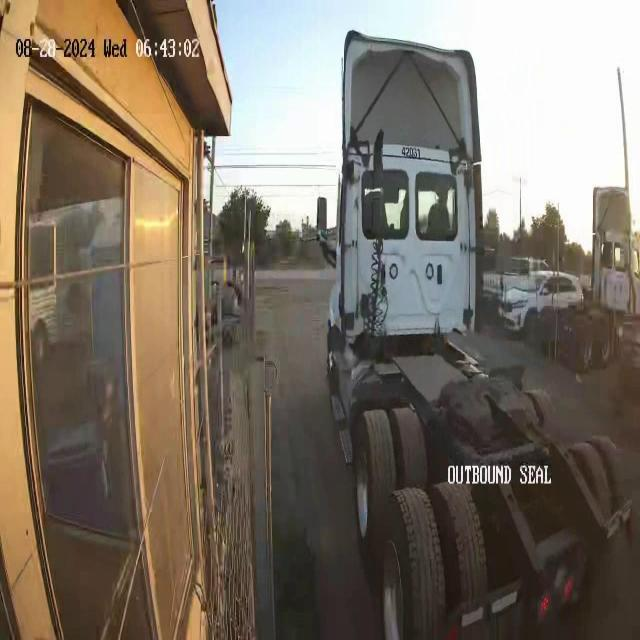TRUCK_OUT: (321, 28, 635, 637)
